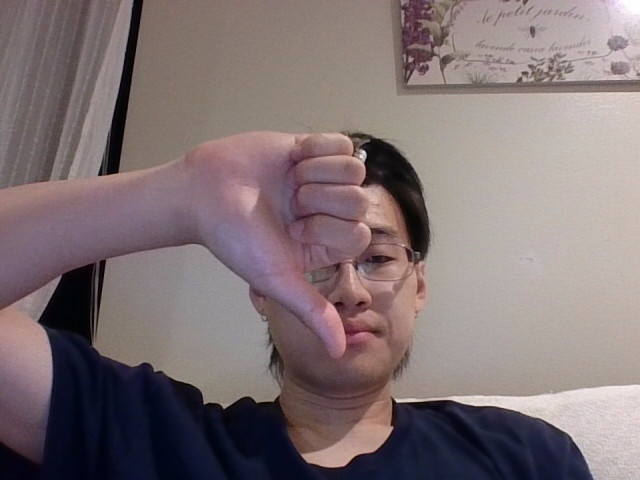ThumbsDown: (188, 131, 372, 359)
